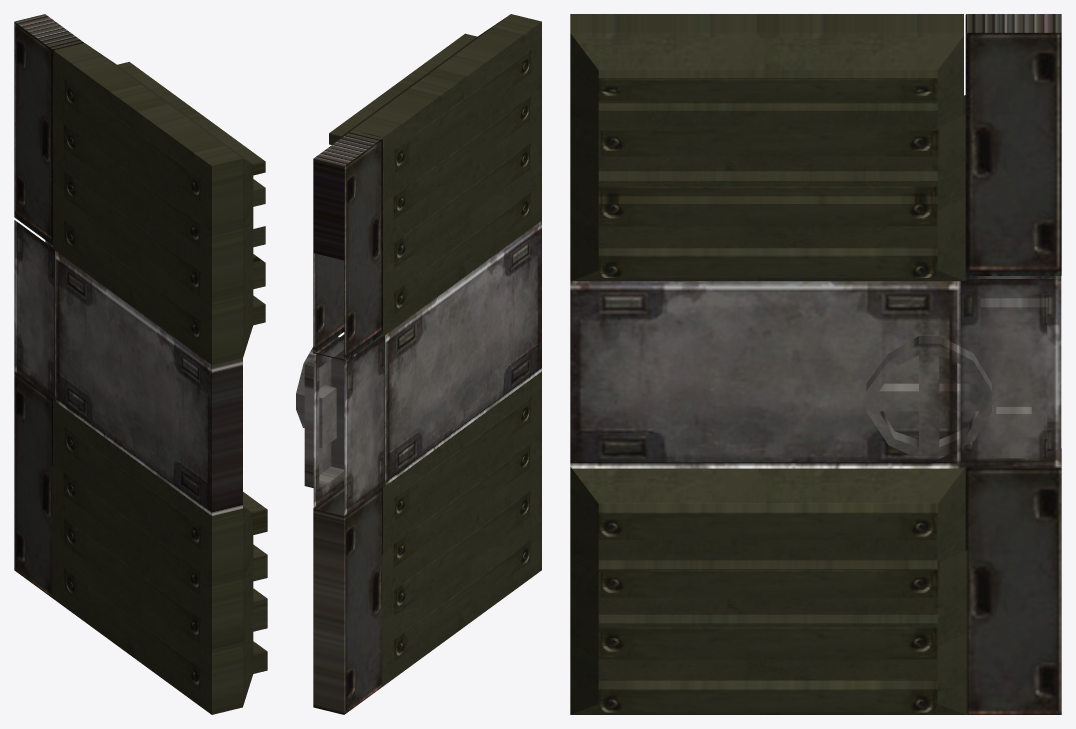
Rendered from porta.fbx.
The picture shows the model from 3 angles, left to right: view 1: azimuth 30°, elevation 25°; view 2: azimuth 150°, elevation 25°; view 3: azimuth 270°, elevation 25°; orthographic projection. The views are drawn at different scales.
Visible parts, largest first — view 1: pCube2; view 2: pCube2; view 3: pCube2.
Boxes of the visible parts, x1,y1,x2,y2 form: pCube2: (14,14,267,714); pCube2: (296,14,541,714); pCube2: (570,14,1061,714).
Bounding box in the file's own units: 0.5655 × 3.89 × 2.54.
